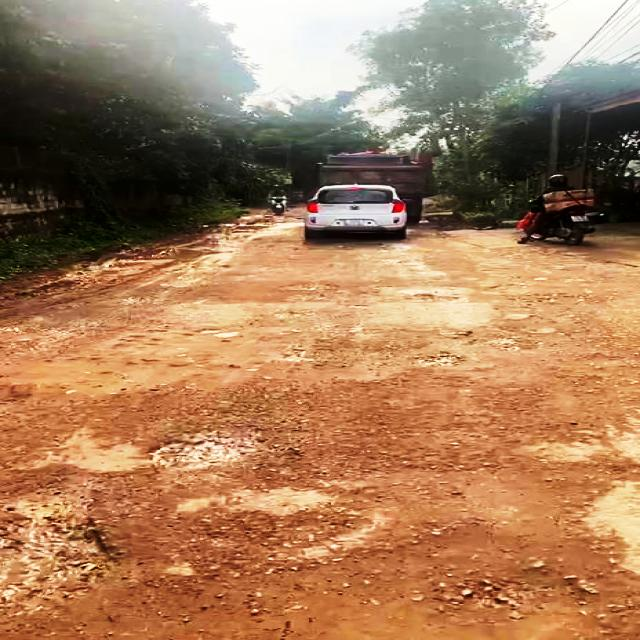pothole: (364, 441, 628, 570), (270, 564, 640, 640), (0, 497, 116, 613), (142, 424, 279, 476), (414, 352, 477, 368), (490, 335, 531, 353), (408, 292, 458, 303)
